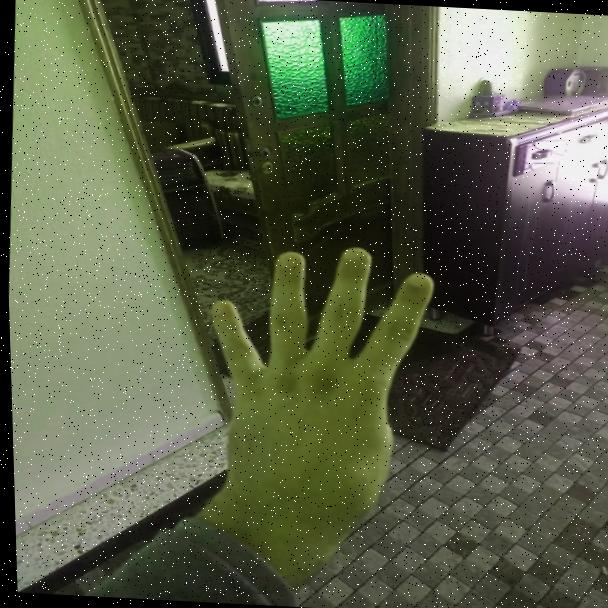four: (176, 232, 462, 535)
